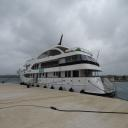cruises: (18, 36, 118, 99)
